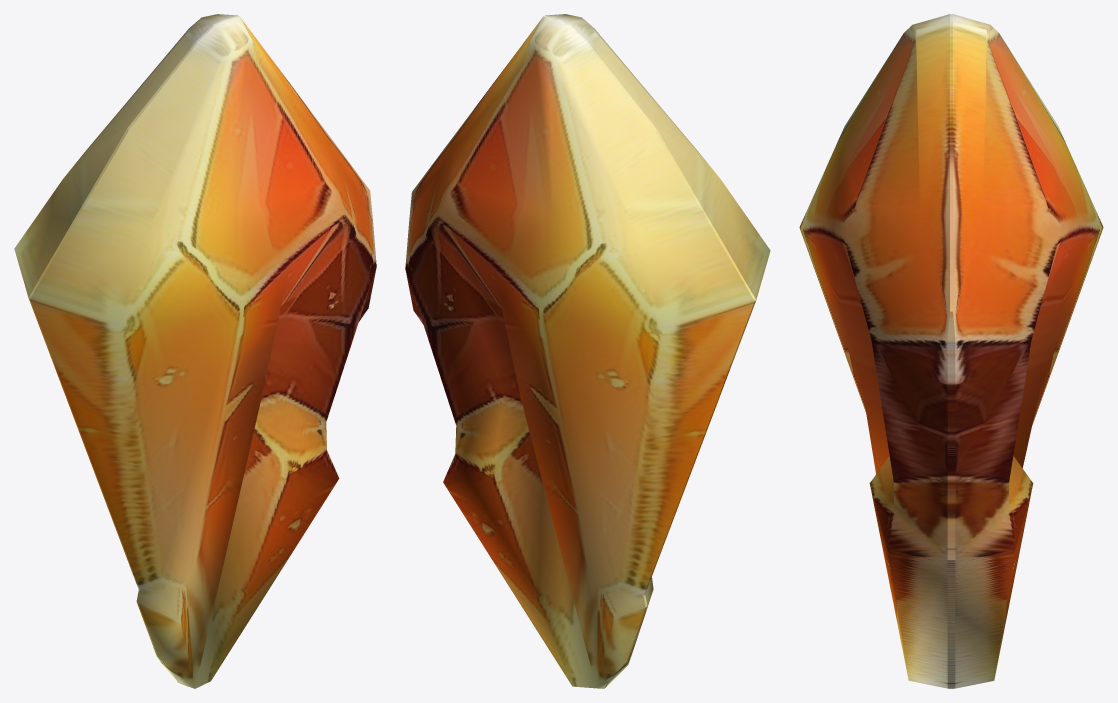
Rendered from gme001.FBX.
The picture shows the model from 3 angles, left to right: view 1: azimuth 30°, elevation 25°; view 2: azimuth 150°, elevation 25°; view 3: azimuth 270°, elevation 25°; orthographic projection. The views are drawn at different scales.
Parts seen in each view (by area): view 1: gme001; view 2: gme001; view 3: gme001.
Part boxes in pixels (bbox=[...]): gme001: bbox=[14, 14, 376, 688]; gme001: bbox=[405, 14, 770, 688]; gme001: bbox=[799, 14, 1103, 688].
Size of the model in its own units: 174 by 317 by 125.
Materials: 1 (1 with a texture image).
